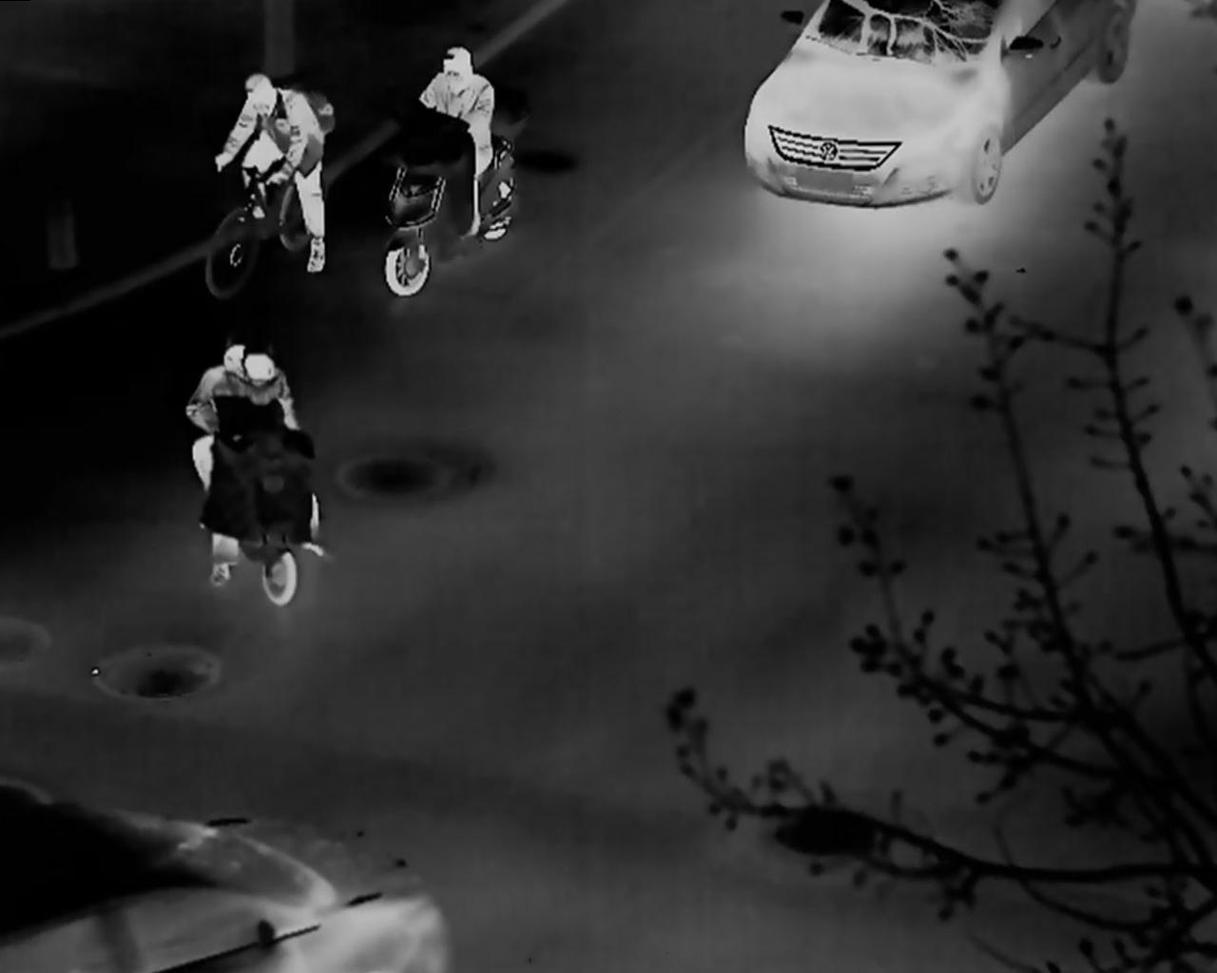person: (188, 341, 329, 581), (211, 72, 338, 274), (417, 44, 494, 242), (216, 346, 296, 419)
